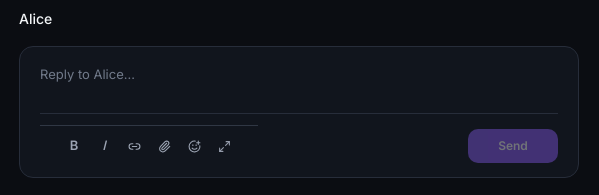
Scenario: ReplyComposer › wraps selected text with italic markdown
In the text box labelled "Reply to Alice": [299, 80] box [20,47,578,113], type "hello"
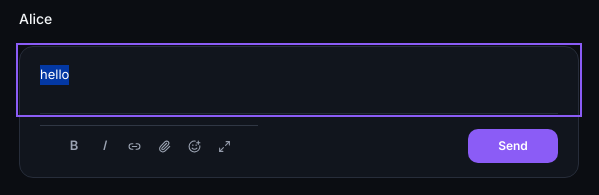
Click the button named "Italic": [104, 146] box [90,132,118,160]
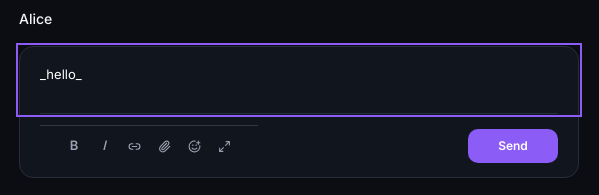
Check: the text box named "Reply to Alice" holds "_hello_", box [20,47,578,113]
